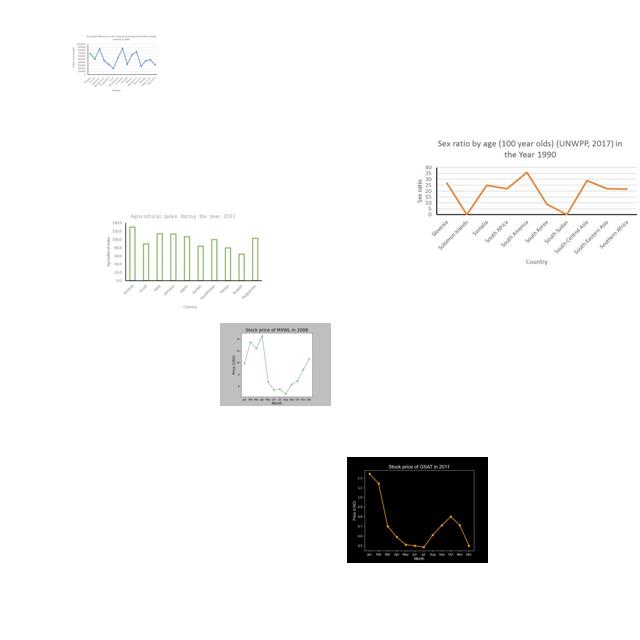Graph: (411, 134, 640, 273), (102, 212, 265, 309), (347, 457, 488, 563), (220, 323, 331, 406), (71, 34, 159, 93)
